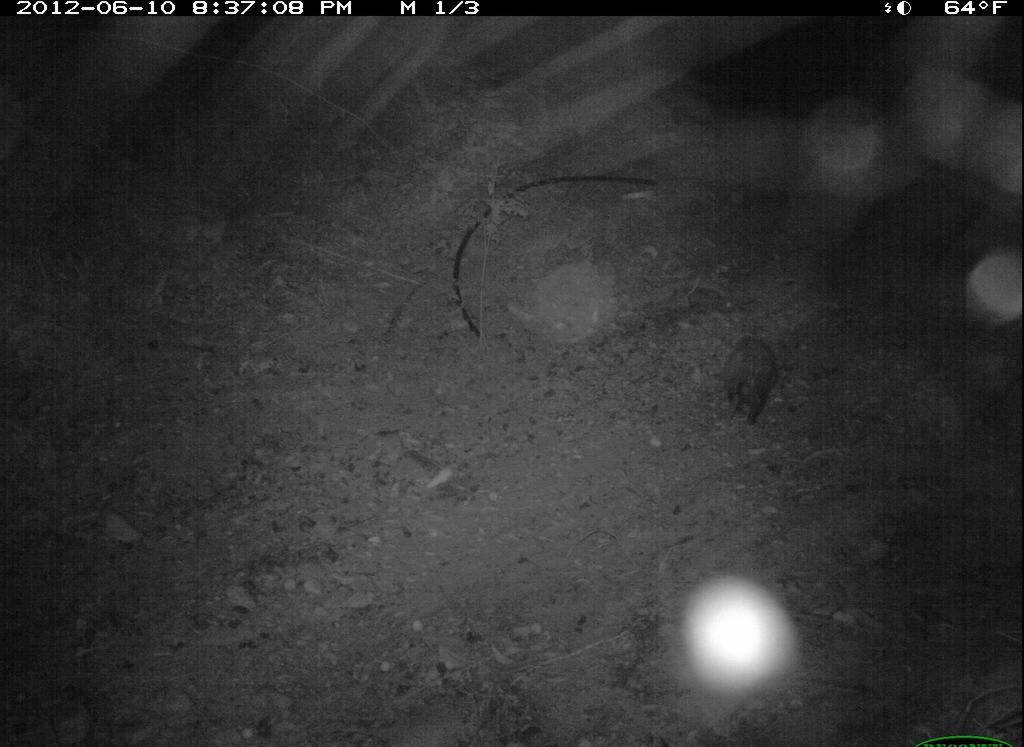opossum: (715, 319, 793, 436)
